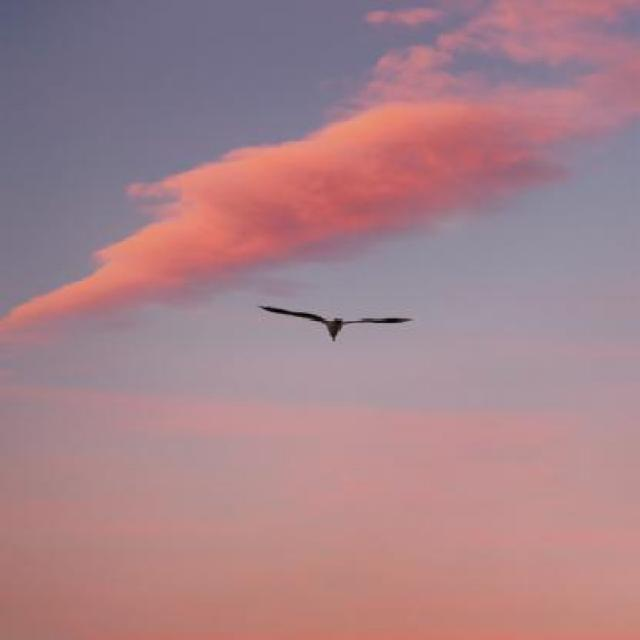bird: (261, 305, 414, 343)
